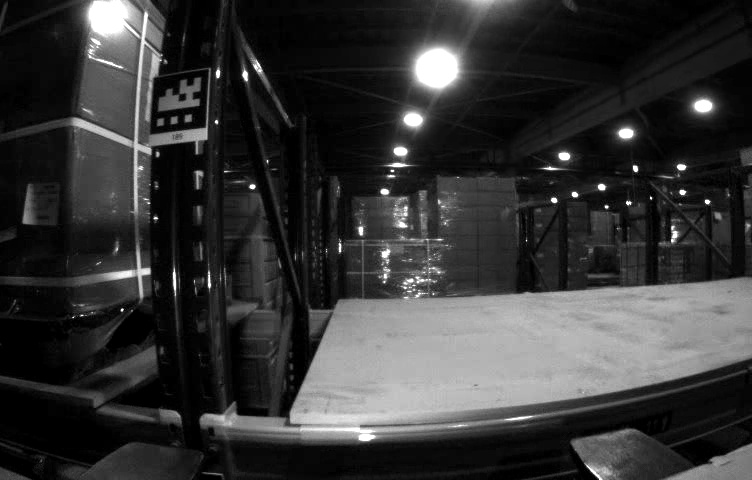True Barcode: (25, 182, 59, 226)
